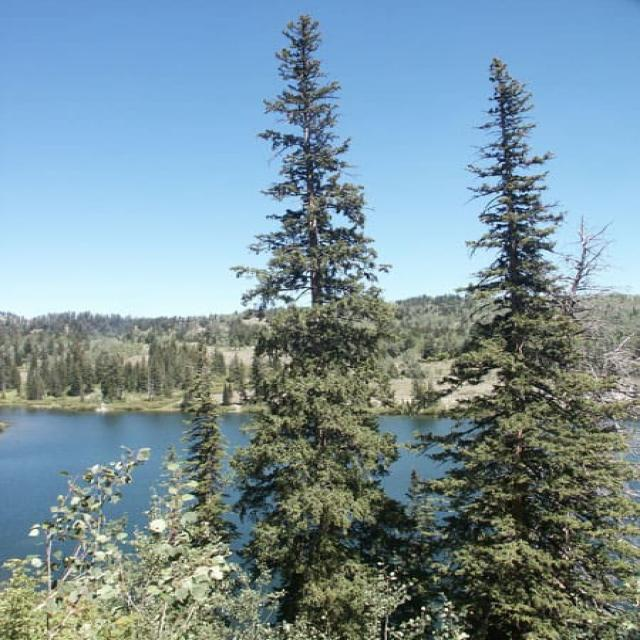Picea engelmannii: (416, 56, 632, 632), (220, 12, 400, 605)
